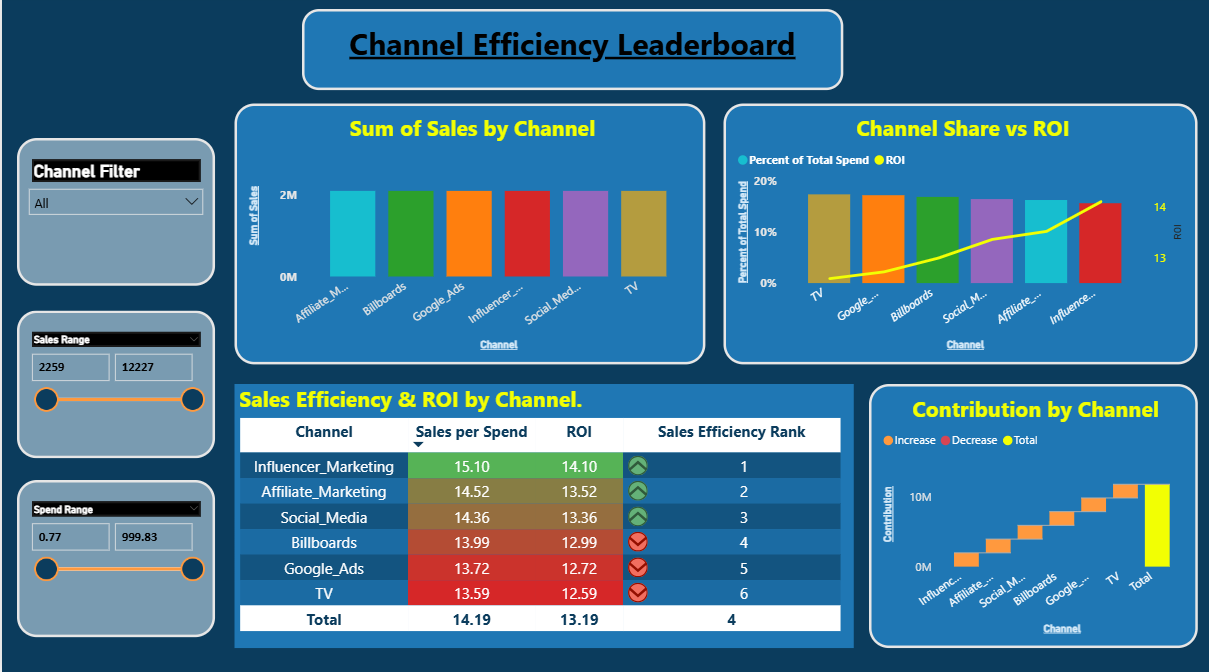

The dashboard page shown, as its layout file describes it:
{"tool":"powerbi","page":{"name":"Deep Analysis","canvas":[1280,720],"ordinal":1},"visuals":[{"type":"slicer","fields":{"Values":["Advertising_Data.Channel"]},"box":[16.7,153.3,210,156.7],"z":0},{"type":"slicer","fields":{"Values":["Advertising_Data.Sales"]},"box":[16.7,335,210,156.7],"z":1000},{"type":"slicer","fields":{"Values":["Advertising_Data.Spend"]},"box":[16.7,515,210,166.7],"z":2000},{"type":"columnChart","fields":{"Category":["Advertising_Data.Channel"],"Y":["Sum(Advertising_Data.Sales)"]},"box":[246.5,116.1,499.5,276.8],"z":3000},{"type":"lineClusteredColumnComboChart","title":"Channel Share vs ROI","fields":{"Category":["Advertising_Data.Channel"],"Y":["Advertising_Data.Percent of Total Spend"],"Y2":["Advertising_Data.ROI"]},"box":[765.1,116.1,502.6,276.8],"z":4000},{"type":"tableEx","title":"Sales Efficiency & ROI by Channel.","fields":{"Values":["Advertising_Data.Channel","Advertising_Data.Sales per Spend","Advertising_Data.ROI","Advertising_Data.Sales Efficiency Rank"]},"box":[246.7,413.3,656.7,280],"z":5000},{"type":"waterfallChart","fields":{"Y":["Advertising_Data.Contribution"],"Category":["Advertising_Data.Channel"]},"box":[920,413.3,348.3,280],"z":6000},{"type":"textbox","box":[318.1,15.9,574.2,85.9],"z":7000}]}

Visuals, with their boxes in screenshot pixels (x1, y1, x2, y2), scaled from the page's 1280x720 canvas onto the 1209x672 screenshot:
slicer - Advertising_Data.Channel: 16 143 214 289
slicer - Advertising_Data.Sales: 16 313 214 459
slicer - Advertising_Data.Spend: 16 481 214 636
columnChart - Advertising_Data.Channel x Sum(Advertising_Data.Sales): 233 108 705 367
"Channel Share vs ROI" lineClusteredColumnComboChart: 723 108 1197 367
"Sales Efficiency & ROI by Channel." tableEx: 233 386 853 647
waterfallChart - Advertising_Data.Contribution x Advertising_Data.Channel: 869 386 1198 647
textbox: 300 15 843 95
